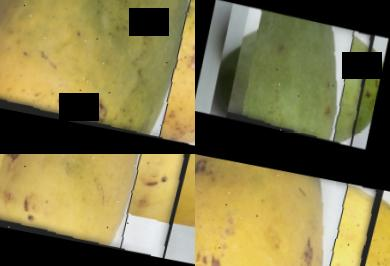PartiallyRipe: (0, 0, 195, 153)
Ripe: (0, 154, 195, 263), (195, 154, 384, 266)
Unripe: (225, 4, 375, 150)
